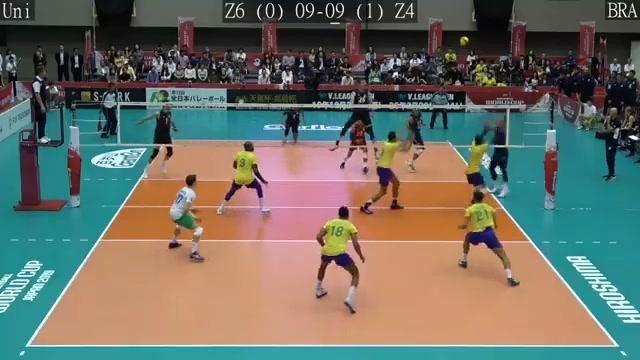ball: (459, 35, 470, 47)
